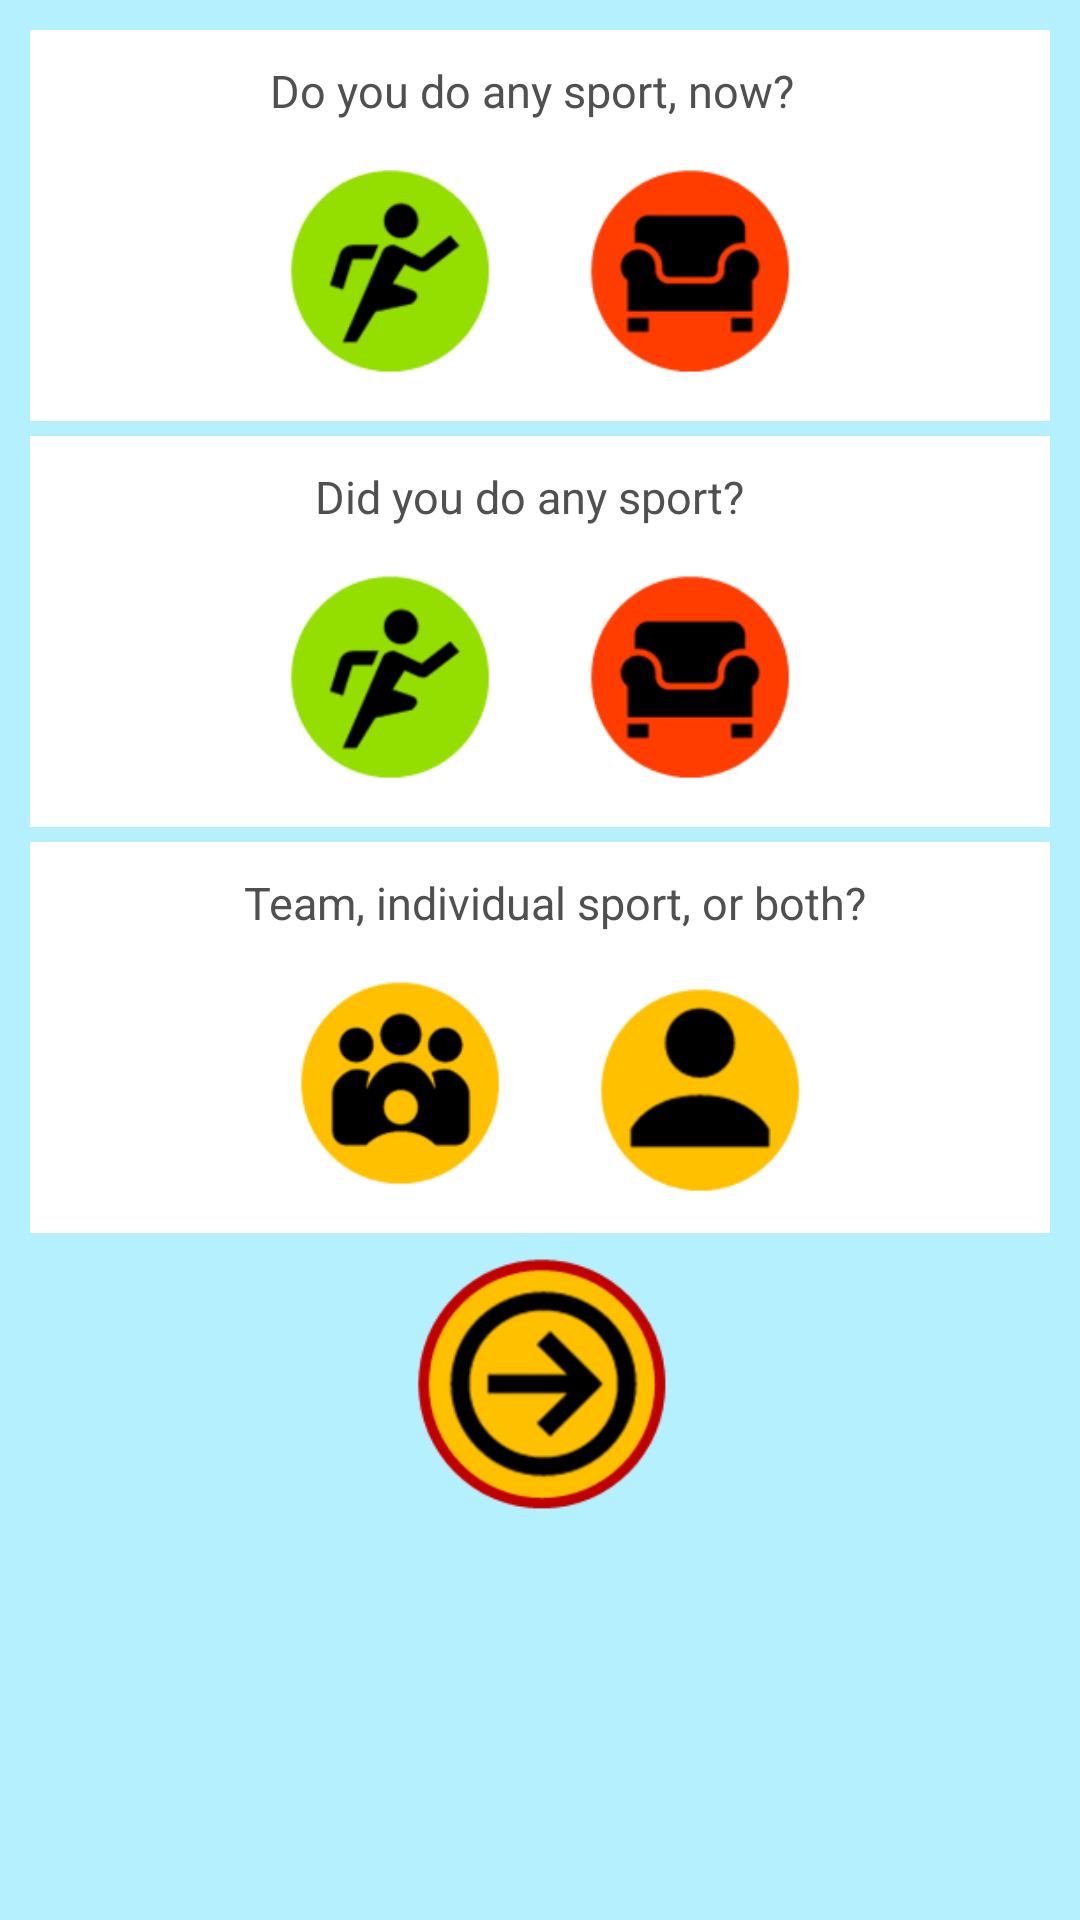

Named icons in this screenshot (1080 × 1920) and their bounding boxes, bbox(x1, y1, x2, y2):
sport yes: bbox(290, 170, 490, 372), bbox(290, 576, 490, 778)
